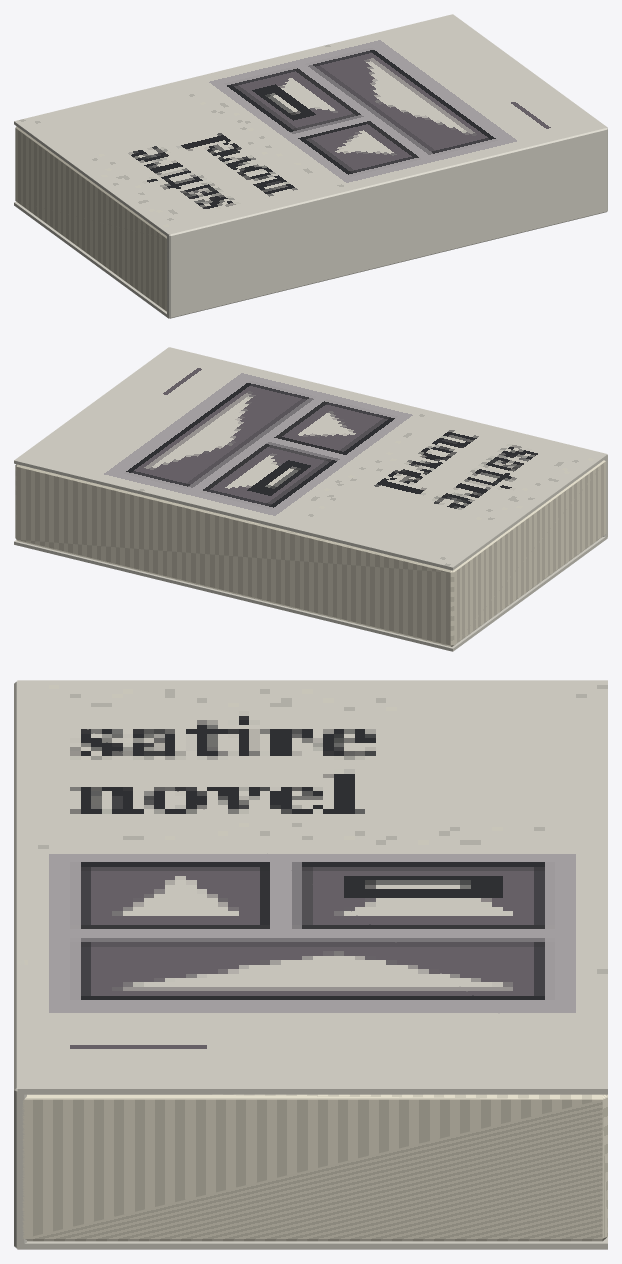
File: novel_satire.glb
3 views of the same model, one above another, from view 1: azimuth 30°, elevation 25°; view 2: azimuth 150°, elevation 25°; view 3: azimuth 270°, elevation 25° (orthographic). The views are drawn at different scales.
Parts seen in each view (by area): view 1: block_front, block_spine, block_pages, block_back; view 2: block_front, block_pages, block_back, block_spine; view 3: block_front, block_pages, block_spine, block_back.
Boxes of the visible parts, x1,y1,x2,y2 form: block_front: (14, 14, 607, 237); block_spine: (167, 128, 607, 318); block_pages: (15, 126, 167, 311); block_back: (14, 202, 607, 318); block_front: (14, 347, 607, 570); block_pages: (15, 460, 606, 646); block_back: (14, 536, 607, 651); block_spine: (168, 347, 607, 536); block_front: (17, 680, 607, 1094); block_pages: (22, 1094, 607, 1241); block_spine: (14, 681, 26, 1248); block_back: (17, 1237, 607, 1249).
Bounding box in the file's own units: 0.18 × 0.033 × 0.1106.
Materials: 1 (1 with a texture image).
